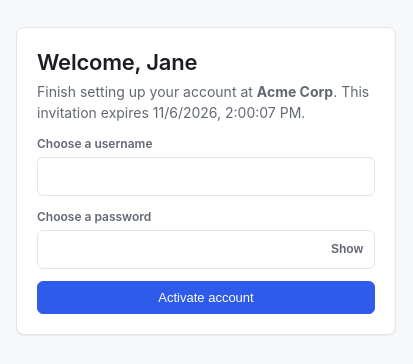
Test: Sub-feature 1.3: ActivatePage › displays client-side validation error when password is too weak
This screenshot has width=413, height=364.
Expected: the heading "Welcome, Jane" is shown, [37,49,197,75]
Type "janedoe" into the field labelled "Choose a username" at [206, 176], box [37,156,375,196]
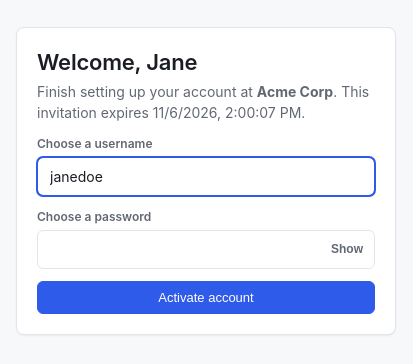
Type "short" into the password field labelled "Choose a password" at [206, 249], box [37,230,375,268]
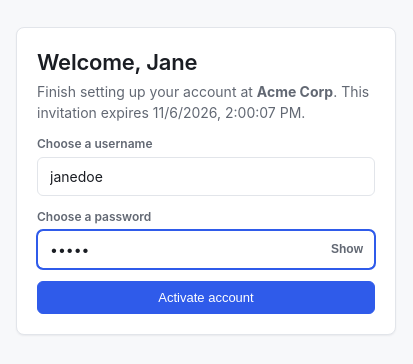
Click the button "Activate account" at [206, 297], box [37,280,375,314]
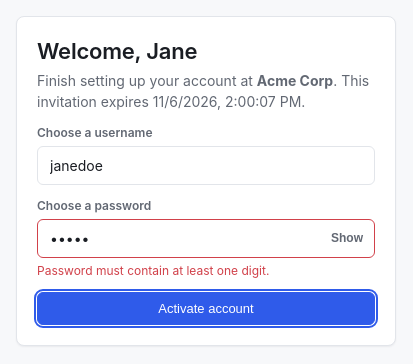
Expected: the text "Password must contain at least one digit." is shown, [37,262,269,278]
